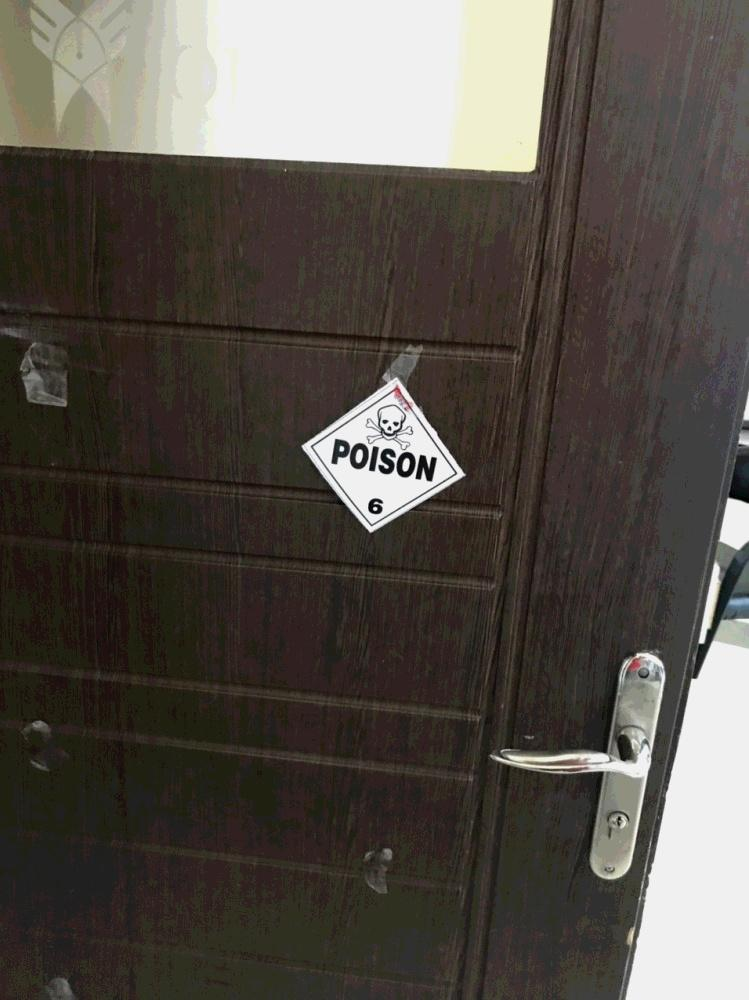poison: (300, 378, 464, 543)
